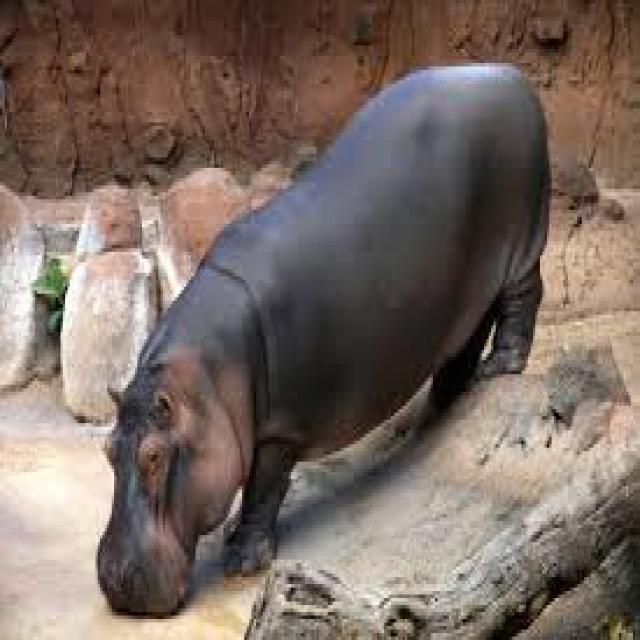Hippopotamus: (96, 55, 553, 624)
